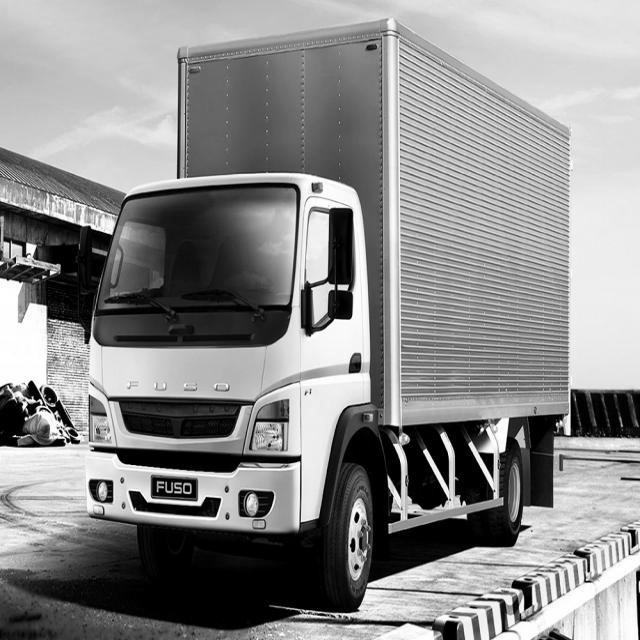truck: (60, 151, 416, 573)
